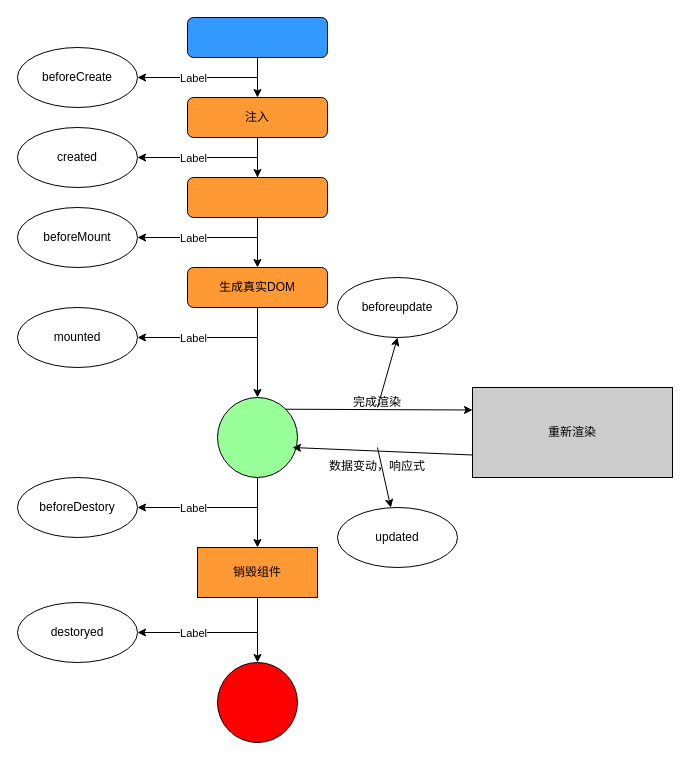
This 690x760 diagram has some shape labels left out. Each missing label, with the box of its shape:
实例被创建: (186, 16, 328, 58)
已挂载: (216, 396, 298, 478)
已销毁: (216, 662, 298, 742)
生成VNode: (186, 176, 328, 218)
